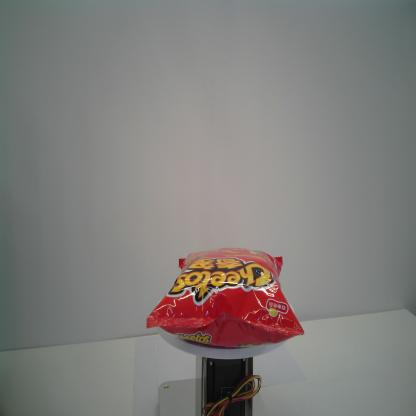Puffed Food: (146, 247, 305, 349)
